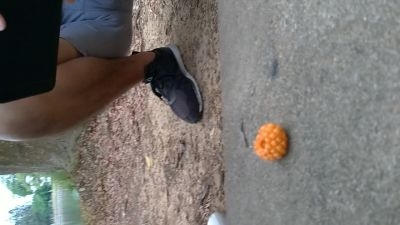eggs: (253, 122, 289, 163)
